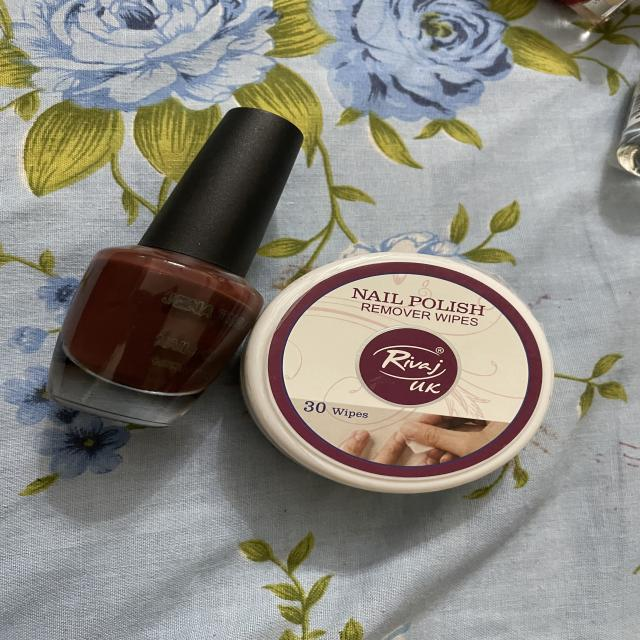nail polish: (34, 94, 308, 436)
nail polish remover: (242, 231, 568, 504)
